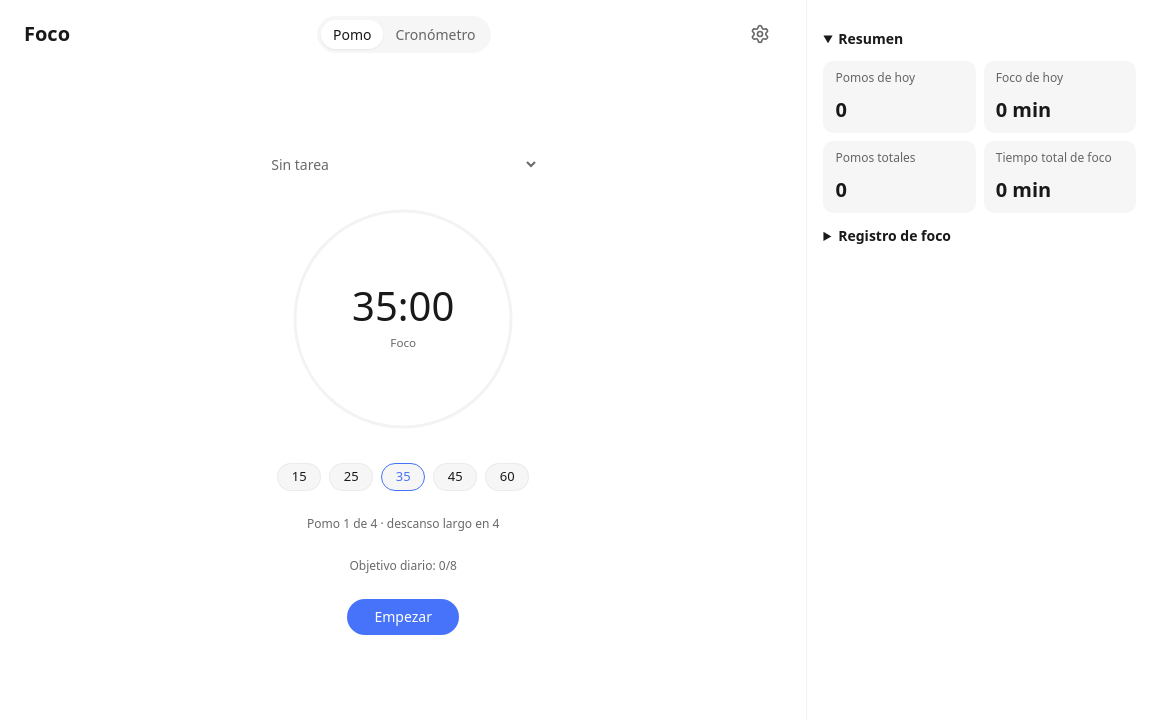
Test case: TTD-AUD-129 RF-1201: presets are visible before editing including configured duration
Click the button "15". click: coordinates (299, 476)
box: [277,462,321,490]
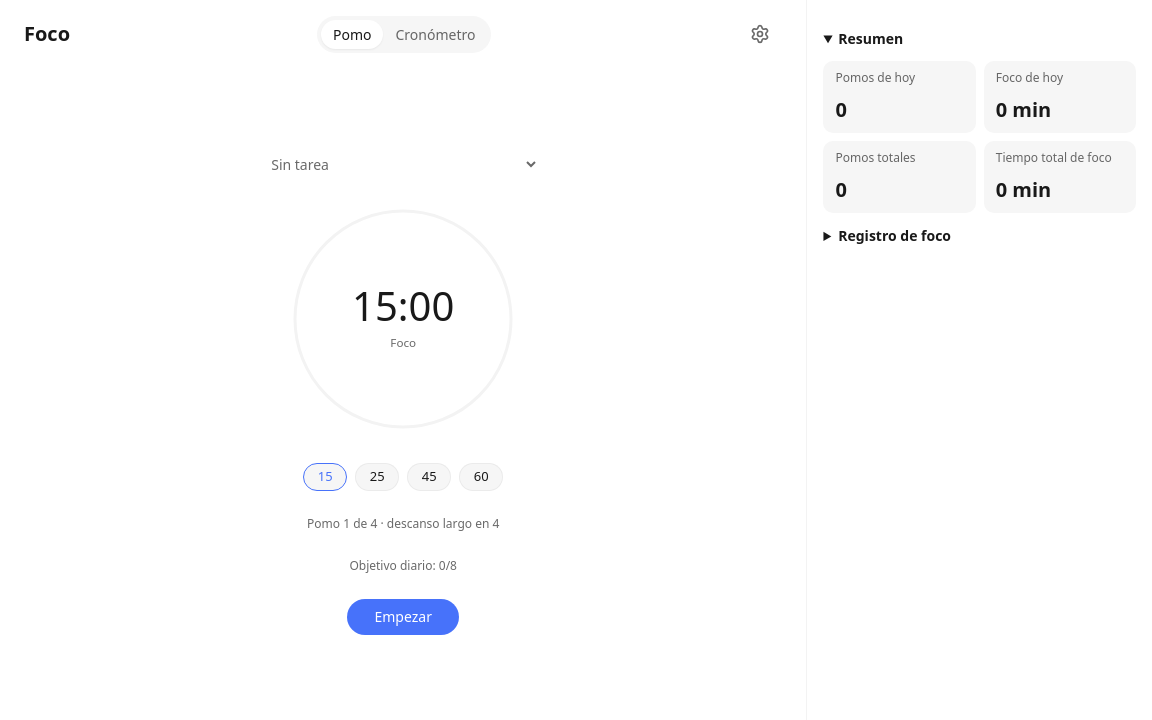
Expected: the element showing "15:00" is shown, [352,286,454,326]
